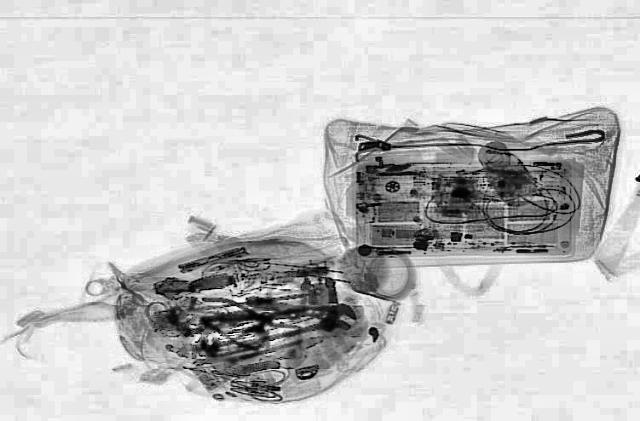Pliers: (198, 294, 308, 350)
Wrench: (236, 286, 364, 336)
